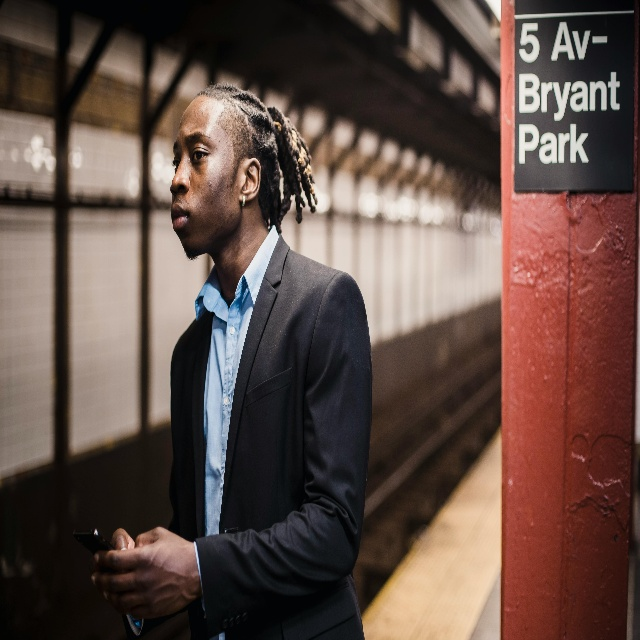Sin_guantes: (92, 530, 203, 613), (110, 525, 135, 550)
